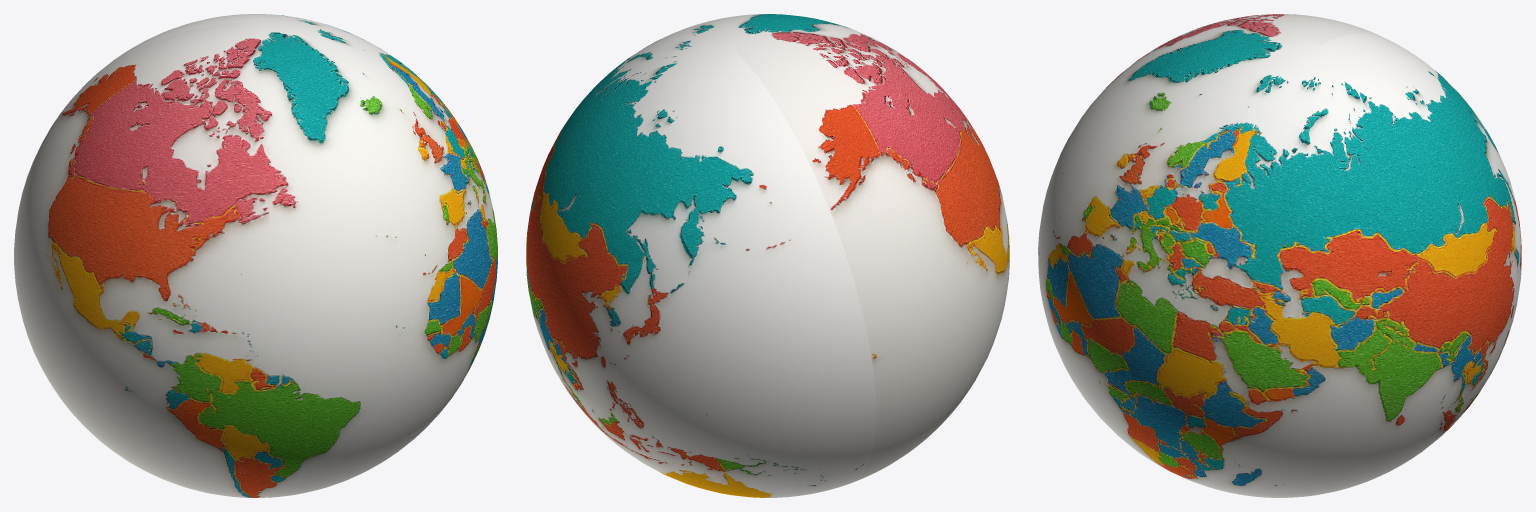
File: world_globe.glb
The picture shows the model from 3 angles, left to right: view 1: azimuth 30°, elevation 25°; view 2: azimuth 150°, elevation 25°; view 3: azimuth 270°, elevation 25°; orthographic projection.
Parts seen in each view (by area): view 1: Sphere; view 2: Sphere; view 3: Sphere.
Part boxes in pixels (x1=…): Sphere: x1=14, y1=14, x2=497, y2=497; Sphere: x1=526, y1=14, x2=1009, y2=497; Sphere: x1=1038, y1=14, x2=1521, y2=497.
Size of the model in its own units: 2 by 2 by 2.
Materials: 1 (1 with a texture image).
